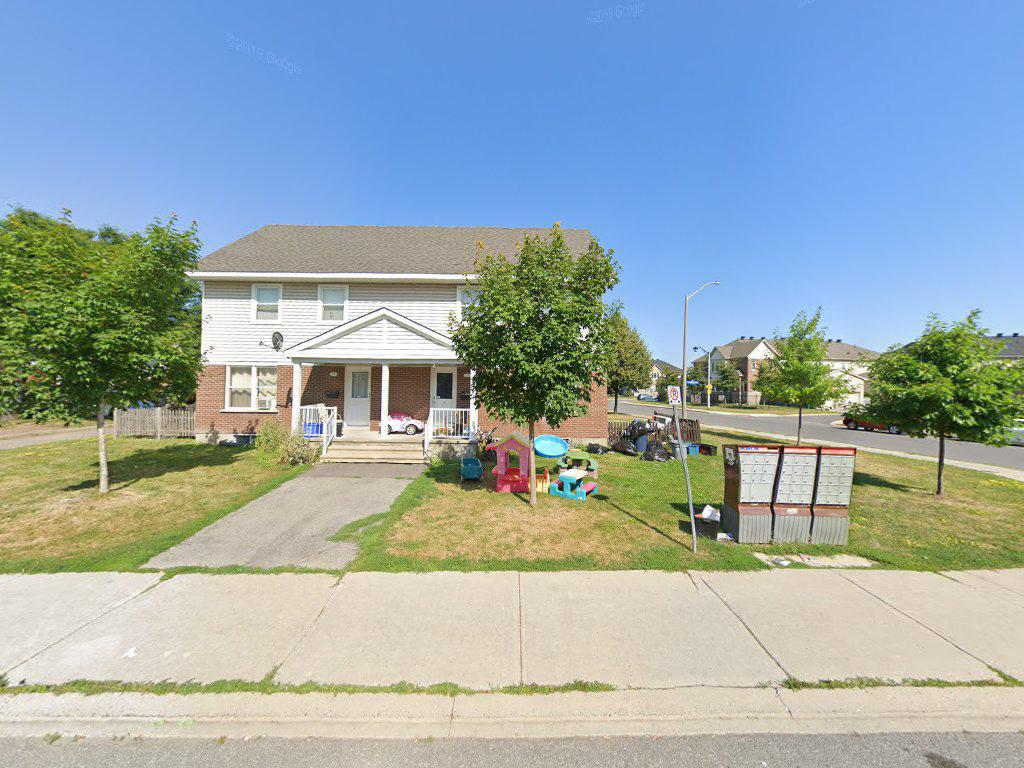trunk: (94, 399, 112, 501), (527, 419, 538, 508), (936, 425, 948, 499)
